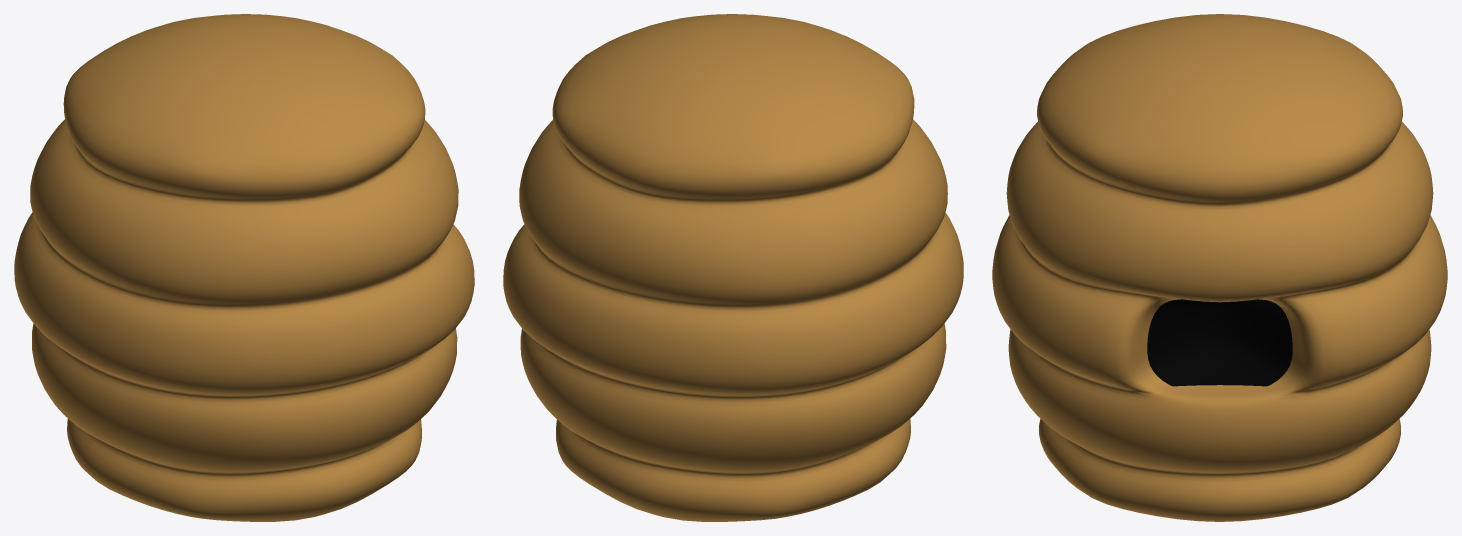
Rendered from hive.fbx.
3 renders of one model, left to right at view 1: azimuth 30°, elevation 25°; view 2: azimuth 150°, elevation 25°; view 3: azimuth 270°, elevation 25°, orthographic.
Visible parts, largest first — view 1: Minigun; view 2: Minigun; view 3: Minigun.
Boxes of the visible parts, x1,y1,x2,y2 form: Minigun: [14, 14, 474, 521]; Minigun: [503, 14, 963, 521]; Minigun: [992, 14, 1447, 521].
Size of the model in its own units: 157 by 175 by 162.
